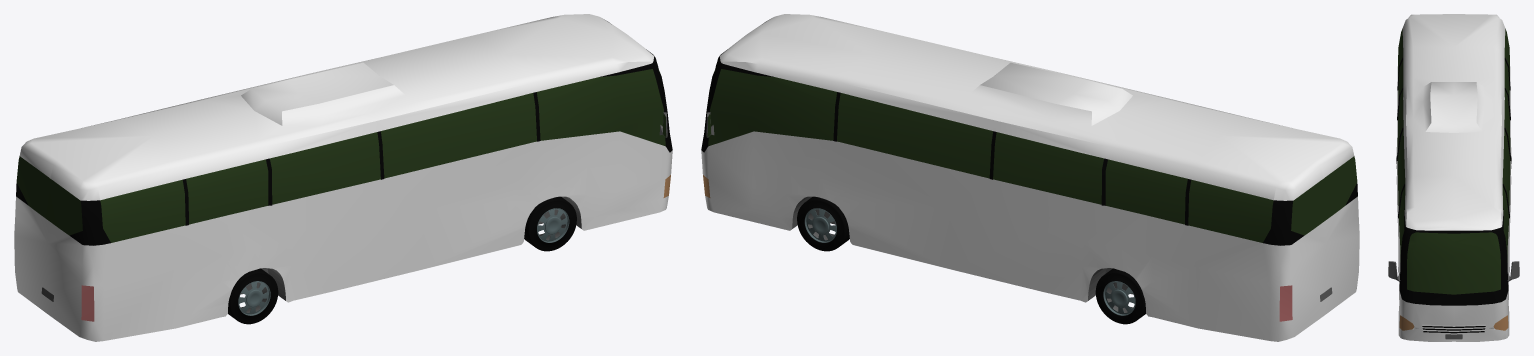
Rendered from car3.gltf.
3 views of the same model, side by side, from view 1: azimuth 30°, elevation 25°; view 2: azimuth 150°, elevation 25°; view 3: azimuth 270°, elevation 25° (orthographic). The views are drawn at different scales.
Parts seen in each view (by area): view 1: ~_____19_materialGroup_3, obj16~Material__32_materialGroup_12, obj1~_____21_materialGroup_1, ~??_8_materialGroup_7, obj21~_____21_materialGroup_14, obj17~_____21_materialGroup_13, obj4~_____15_materialGroup_4; view 2: ~_____19_materialGroup_3, obj16~Material__32_materialGroup_12, obj1~_____21_materialGroup_1, ~??_8_materialGroup_7, obj10~_____21_materialGroup_9, obj6~_____21_materialGroup_6, obj4~_____15_materialGroup_4; view 3: ~_____19_materialGroup_3, obj16~Material__32_materialGroup_12, obj1~_____21_materialGroup_1, obj15~_____15_materialGroup_11, obj25~08___Default_materialGroup_15, obj2~_____21_materialGroup_2, obj0~_____2_materialGroup_0.
Part boxes in pixels (x1,y1,x2,y2): ~_____19_materialGroup_3: (14,14,672,341); obj16~Material__32_materialGroup_12: (16,69,666,242); obj1~_____21_materialGroup_1: (16,21,672,245); ~??_8_materialGroup_7: (238,208,569,315); obj21~_____21_materialGroup_14: (524,196,576,251); obj17~_____21_materialGroup_13: (228,268,278,324); obj4~_____15_materialGroup_4: (240,196,581,300); ~_____19_materialGroup_3: (701,14,1359,341); obj16~Material__32_materialGroup_12: (707,69,1357,242); obj1~_____21_materialGroup_1: (701,21,1357,245); ~??_8_materialGroup_7: (804,208,1135,315); obj10~_____21_materialGroup_9: (797,196,849,251); obj6~_____21_materialGroup_6: (1095,268,1145,324); obj4~_____15_materialGroup_4: (792,196,1133,300); ~_____19_materialGroup_3: (1396,14,1511,341); obj16~Material__32_materialGroup_12: (1397,28,1510,294); obj1~_____21_materialGroup_1: (1396,57,1511,305); obj15~_____15_materialGroup_11: (1388,261,1519,281); obj25~08___Default_materialGroup_15: (1422,324,1485,331); obj2~_____21_materialGroup_2: (1422,326,1485,333); obj0~_____2_materialGroup_0: (1399,315,1508,330).
Size of the model in its own units: 13.17 by 3.88 by 3.4.
